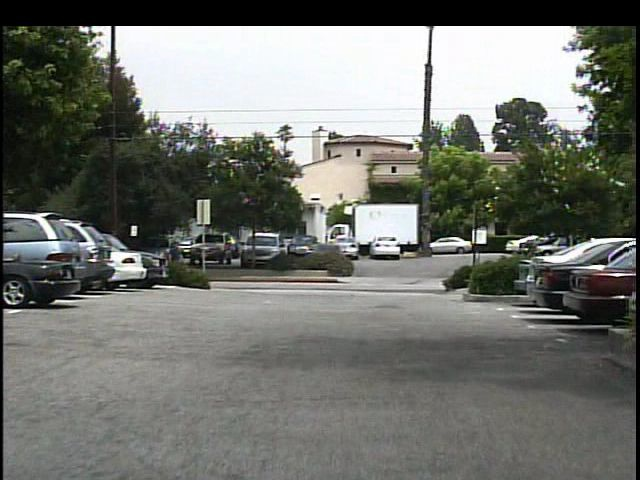person: (166, 238, 188, 281)
